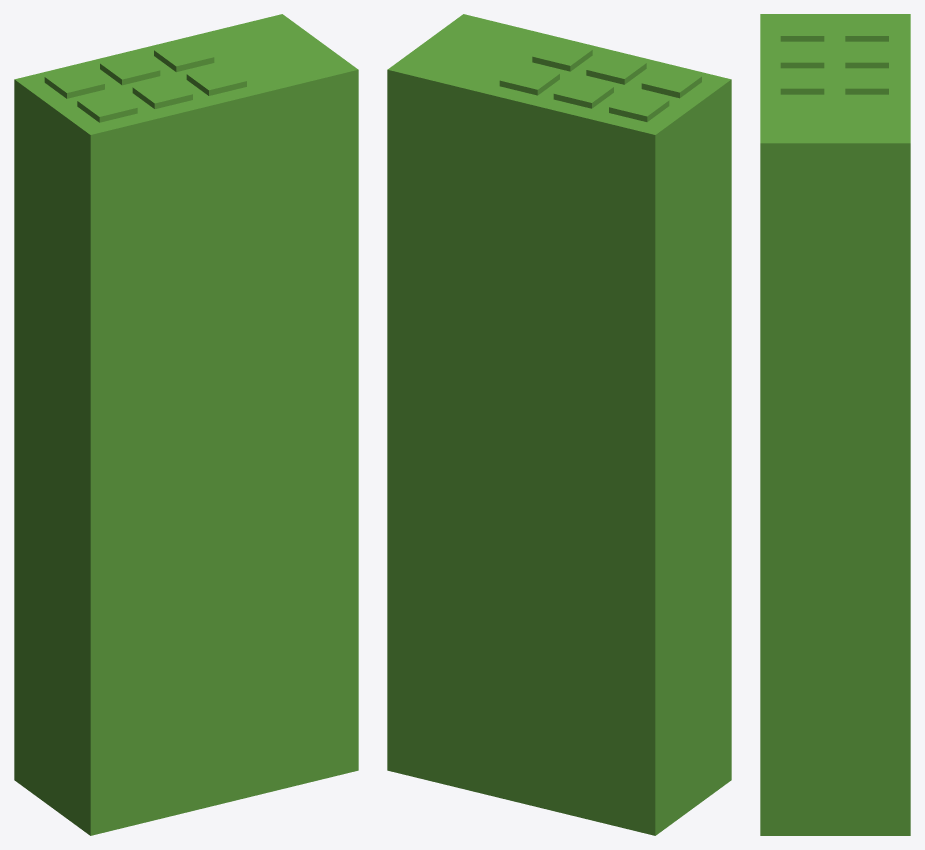
The model's file is Building2_green.fbx.
3 renders of one model, left to right at view 1: azimuth 30°, elevation 25°; view 2: azimuth 150°, elevation 25°; view 3: azimuth 270°, elevation 25°, orthographic.
Parts seen in each view (by area): view 1: Building 2; view 2: Building 2; view 3: Building 2.
Part boxes in pixels (x1,y1,x2,y2): Building 2: (14, 14, 358, 835); Building 2: (387, 14, 731, 835); Building 2: (760, 14, 910, 835).
Bounding box in the file's own units: 1683 × 4241 × 828.
1 material, 1 textured.
